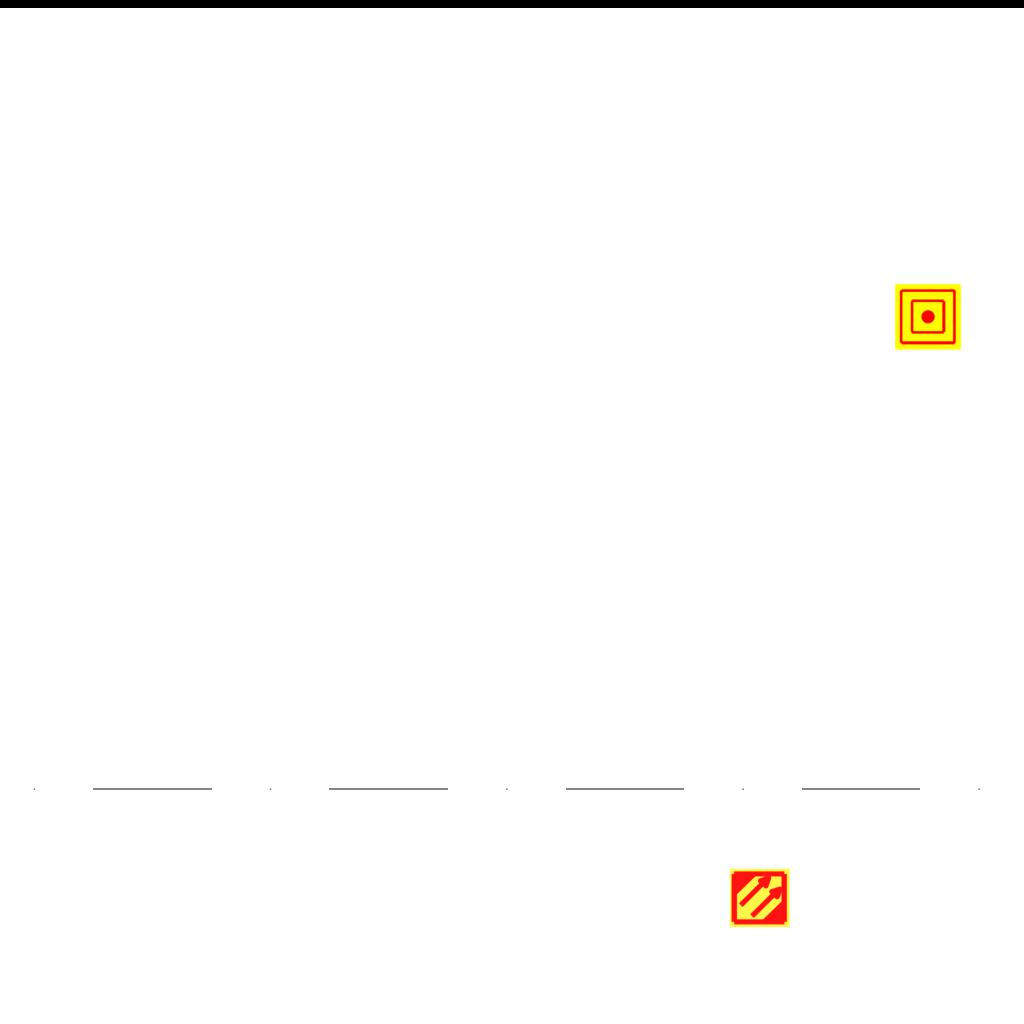ASR_Ansaugrauchmelder: (729, 867, 791, 929)
NAM-Nichtautomatischer_Melder: (895, 284, 961, 350)
